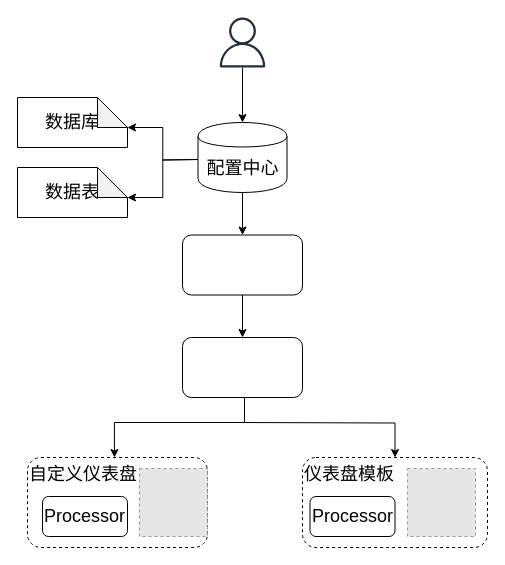
The diagram is 505 pixels wide and 565 high, and some of its shapes have lost their labels. Grey dashed boxes stand in for pictures. Each missing label, with the centre of its shape:
"SQL编译器" goes at pixel 242 264.
"图形可视化" goes at pixel 242 367.
